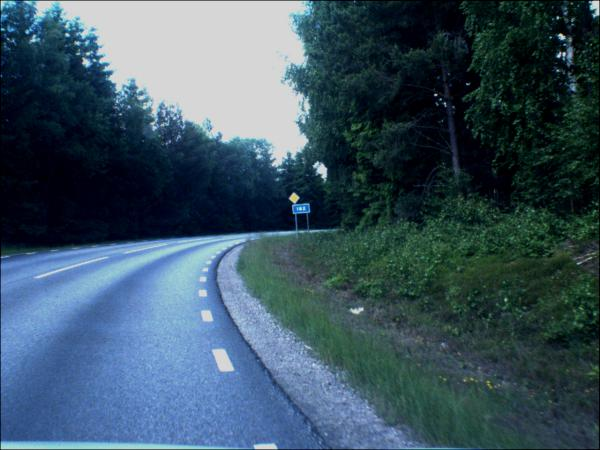PRIORITY_ROAD: (290, 195, 302, 205)
